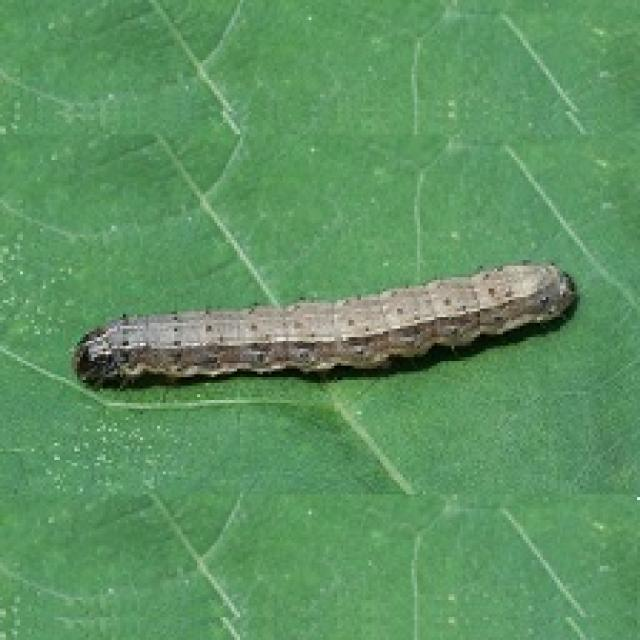Fall-armyworm: (66, 256, 588, 402)
